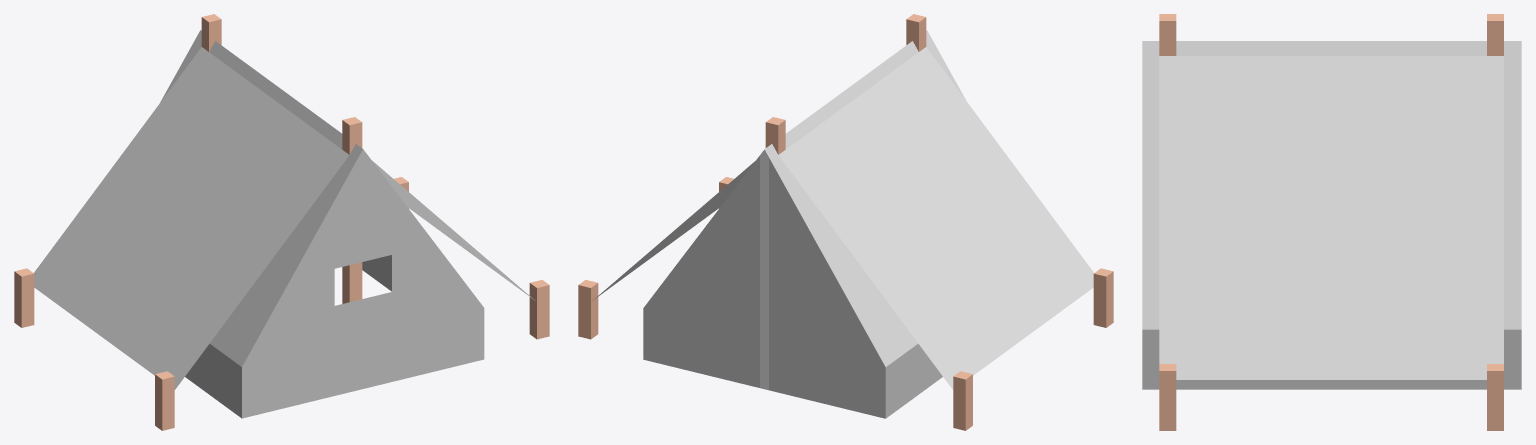
File: tent.glb
3 views of the same model, side by side, from view 1: azimuth 30°, elevation 25°; view 2: azimuth 150°, elevation 25°; view 3: azimuth 270°, elevation 25° (orthographic). The views are drawn at different scales.
Parts seen in each view (by area): view 1: tent_detailedClosed; view 2: tent_detailedClosed; view 3: tent_detailedClosed.
Part boxes in pixels (x1,y1,x2,y2): tent_detailedClosed: [14, 14, 549, 430]; tent_detailedClosed: [578, 14, 1113, 430]; tent_detailedClosed: [1142, 14, 1521, 430].
Size of the model in its own units: 0.8749 by 0.5611 by 0.6364.
